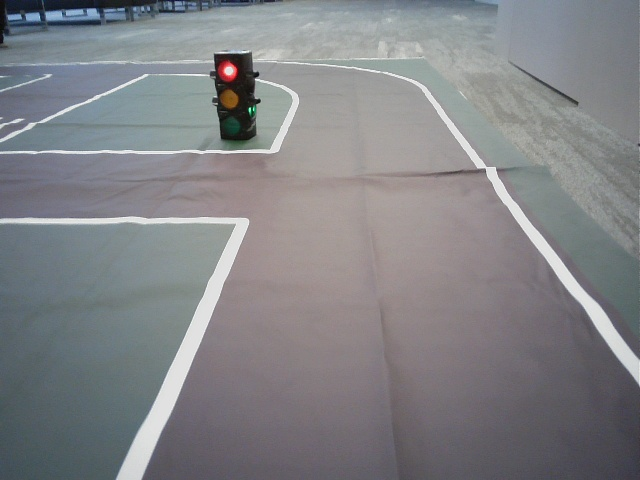red: (216, 59, 244, 138)
